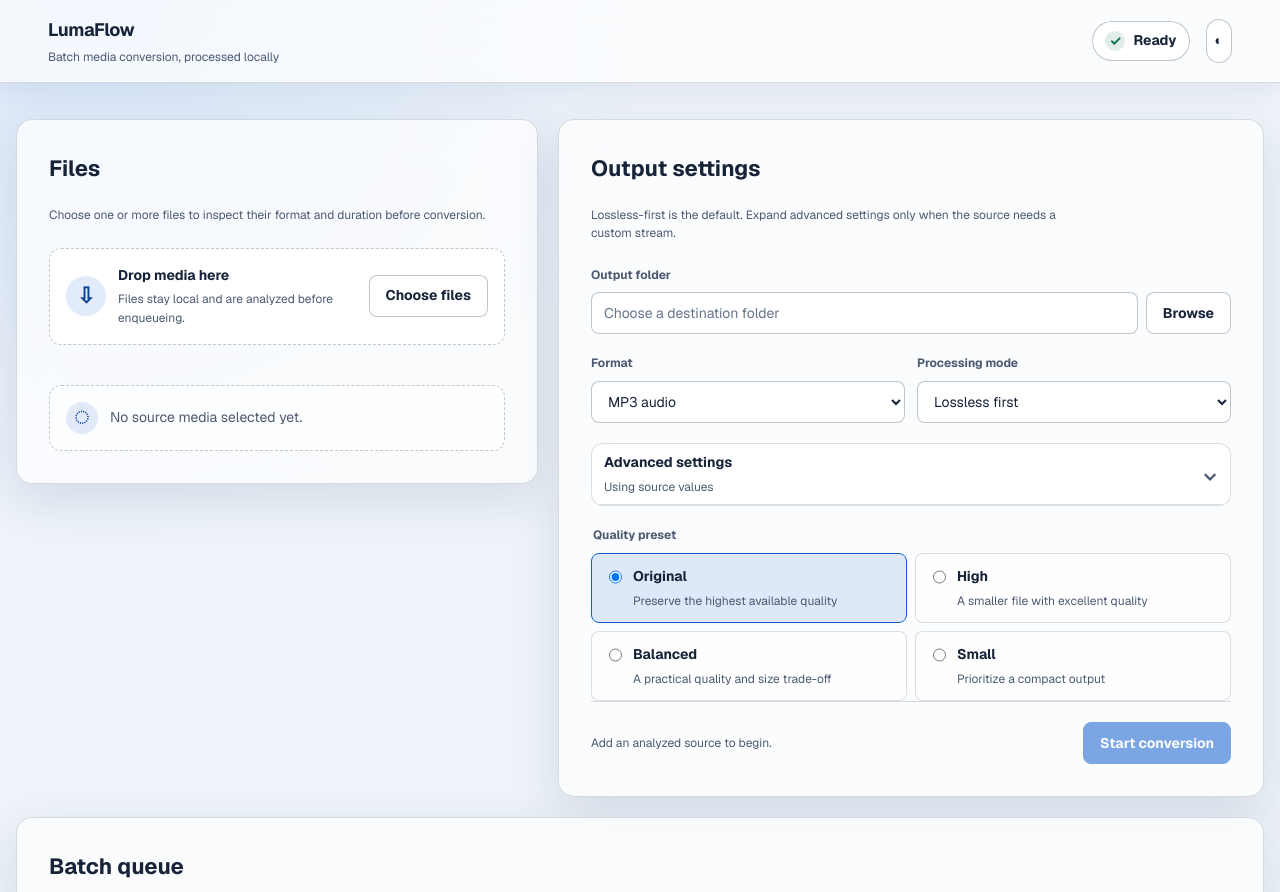
Test: App › does not enqueue with a stale preflight path after Browse changes the folder
The width and height of the screenshot is (1280, 892).
What coordinates should you click on to do the following:
click the button "Browse"
I would click on:
 (1188, 313)
Its box is [1146,292,1231,334].
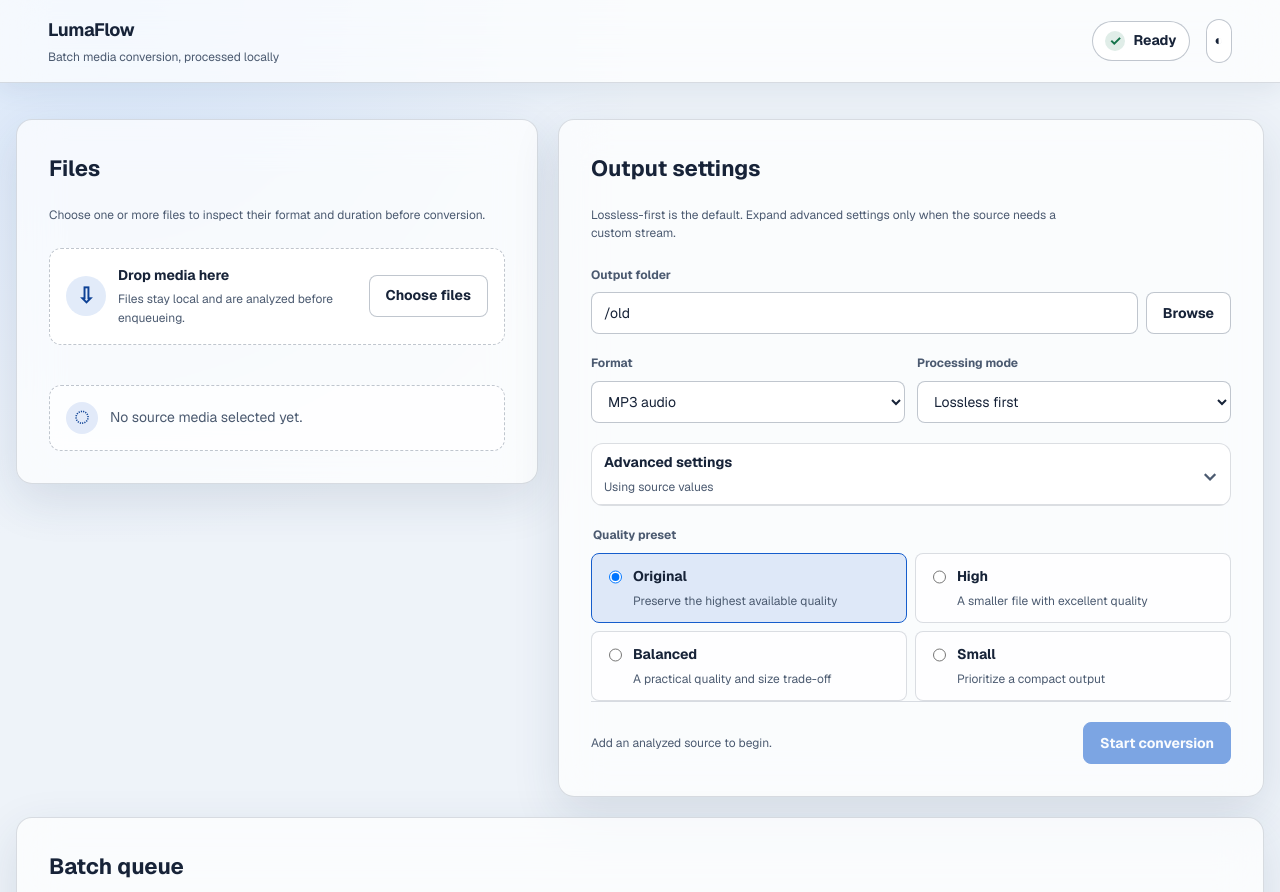
What coordinates should you click on to do the following:
click the button "Choose files"
I would click on:
 (428, 296)
Its box is [369,275,488,317].
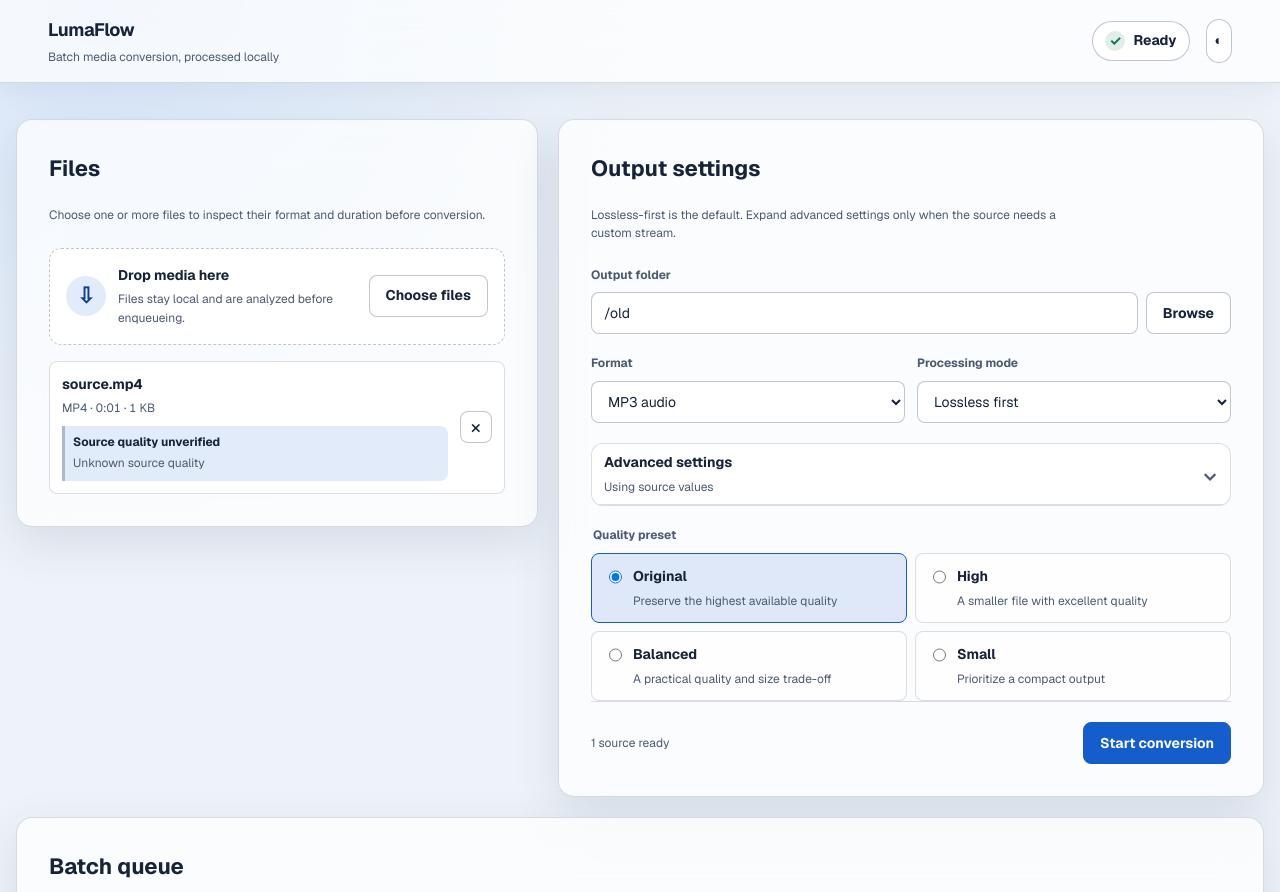
Check: the button "Start conversion" is enabled
What coordinates should you click on to do the following:
click the button "Start conversion"
I would click on:
 (1157, 743)
Its box is [1083,722,1231,764].
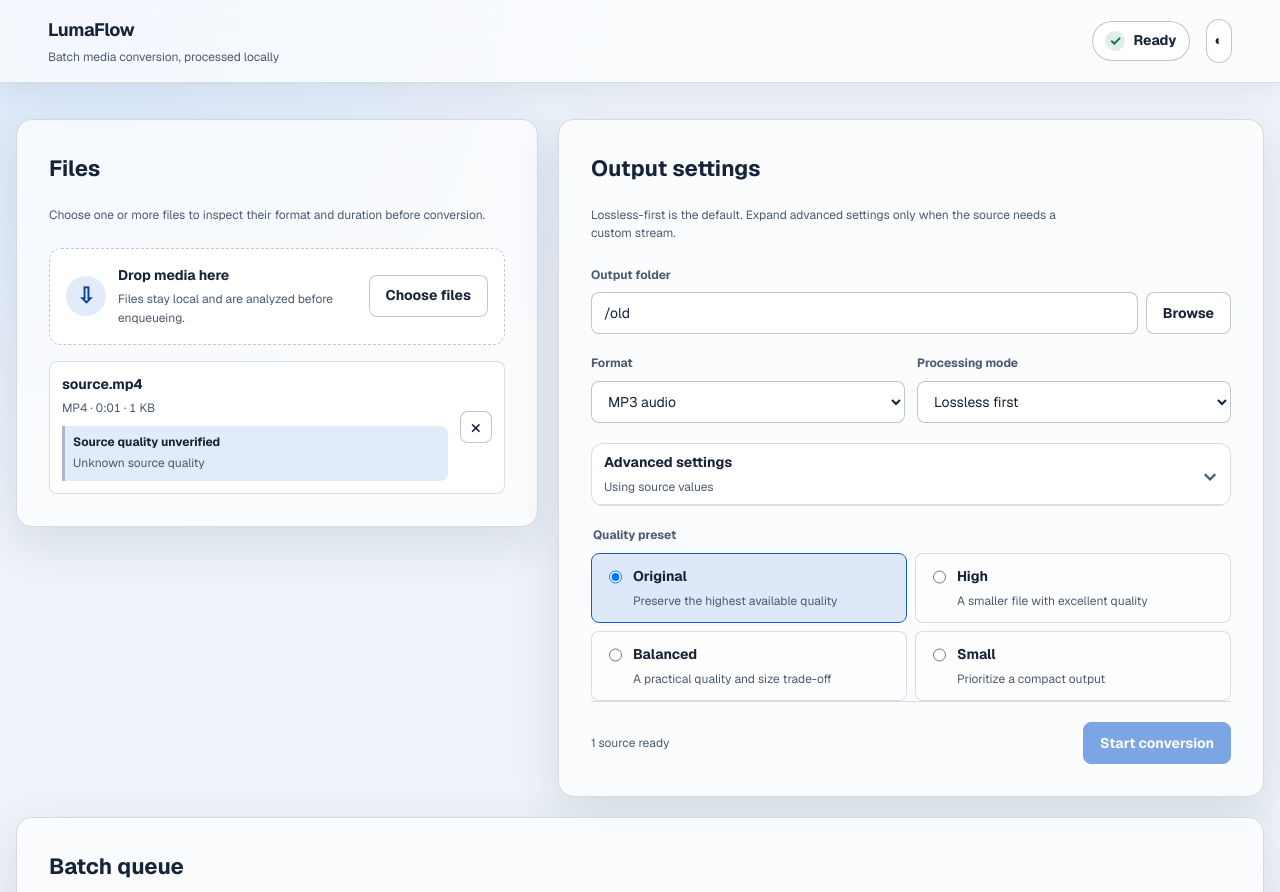
What coordinates should you click on to do the following:
click the button "Browse"
I would click on:
 (1188, 313)
Its box is [1146,292,1231,334].
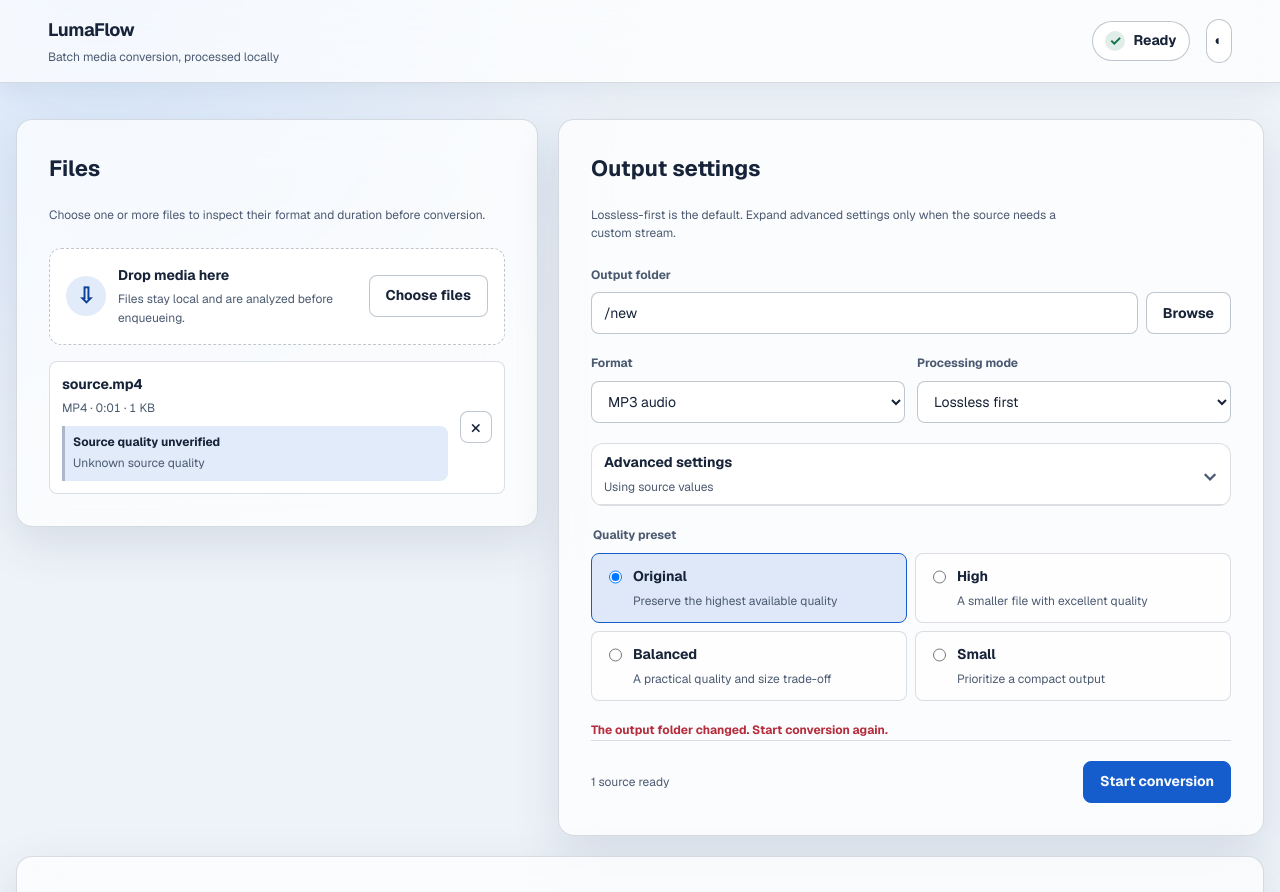
Check: the message "The output folder changed. Start conversion again." is shown, box [591,722,888,738]
Check: the field with placeholder "Choose a destination folder" holds "/new", box [591,292,1138,334]
